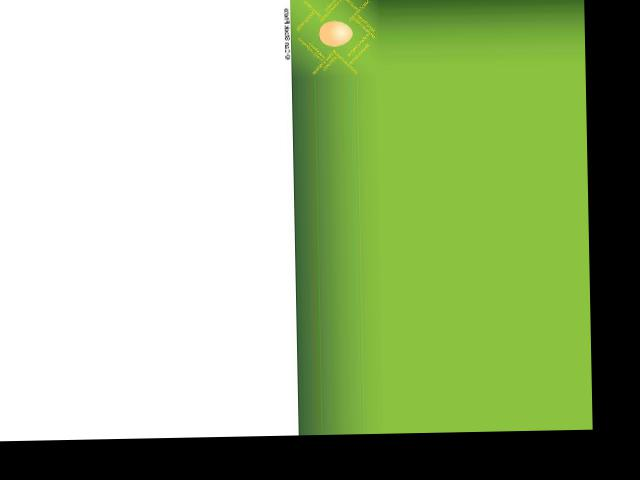egg: (318, 20, 353, 46)
